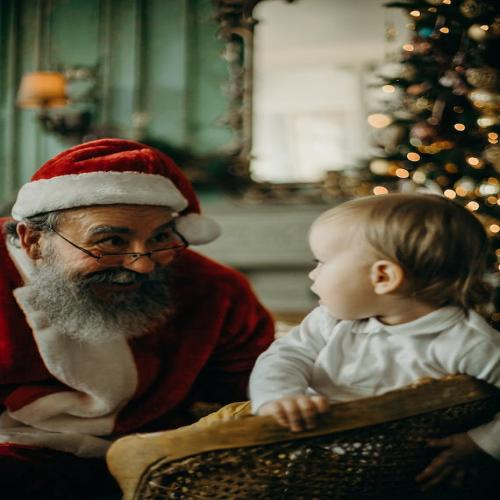Santa: (0, 138, 273, 438)
